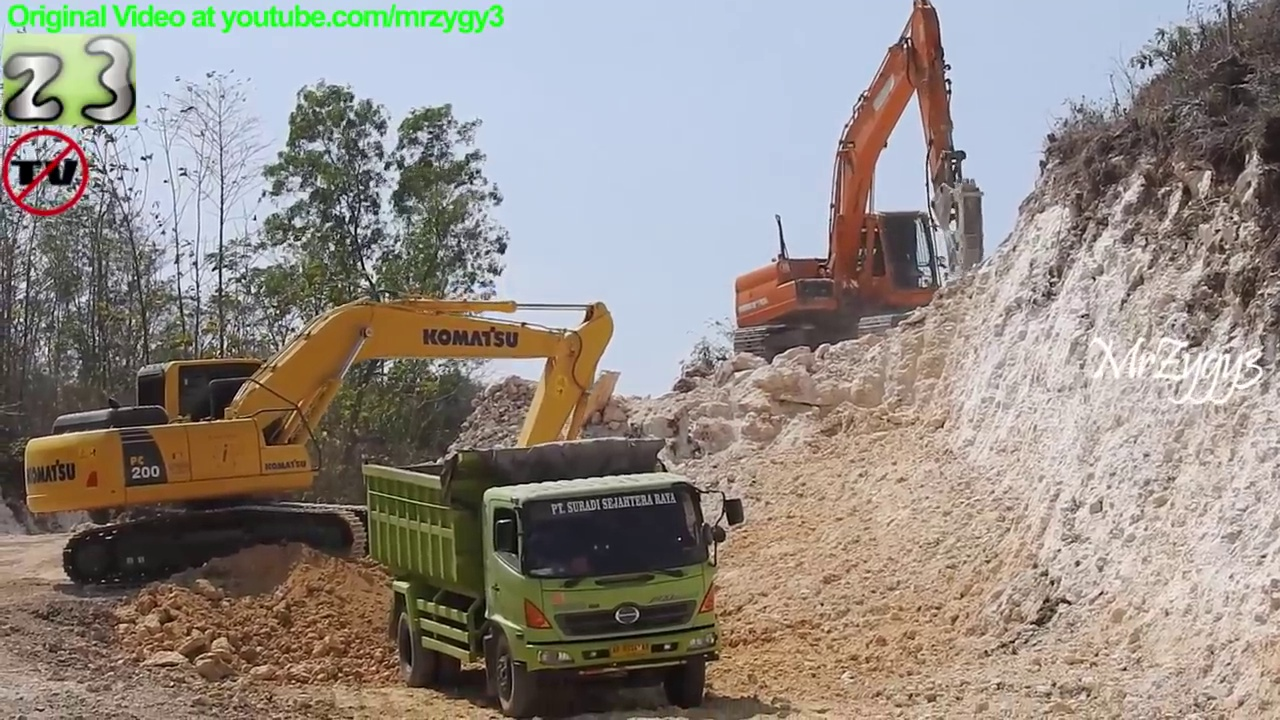excavator: (19, 281, 631, 606), (726, 1, 1003, 371)
truck: (355, 431, 749, 720)
